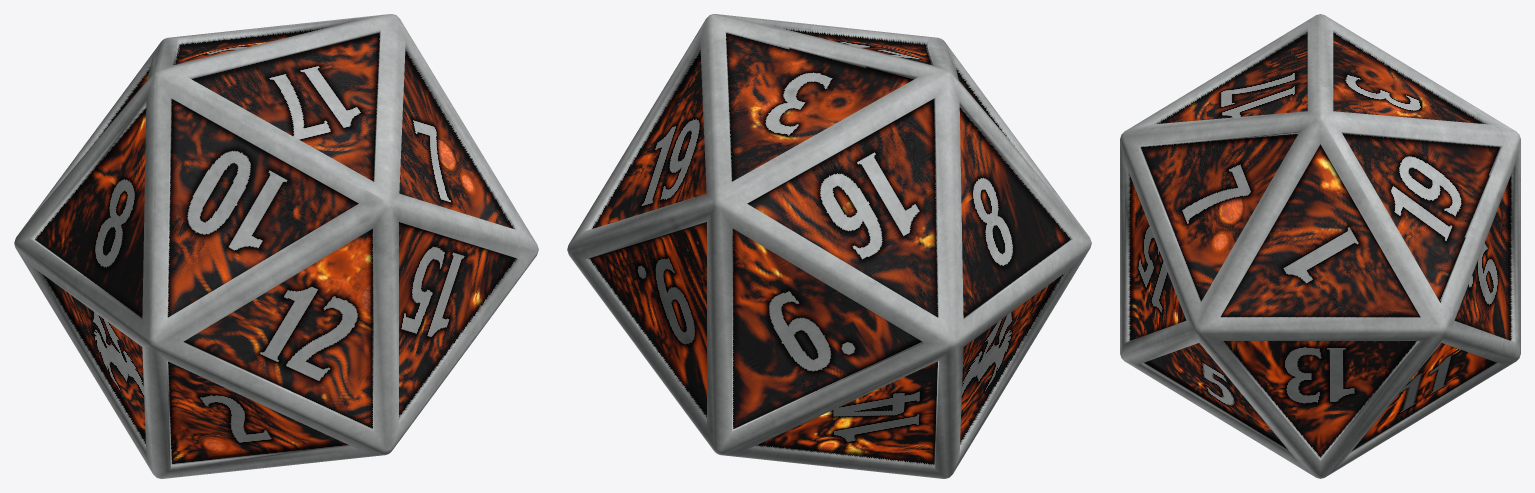
3 renders of one model, left to right at view 1: azimuth 30°, elevation 25°; view 2: azimuth 150°, elevation 25°; view 3: azimuth 270°, elevation 25°, orthographic. The views are drawn at different scales.
Visible parts, largest first — view 1: dice_20; view 2: dice_20; view 3: dice_20.
Boxes of the visible parts, <box> form: dice_20: <box>14,14,538,478</box>; dice_20: <box>567,14,1091,478</box>; dice_20: <box>1120,14,1520,478</box>.
Bounding box in the file's own units: 1.7 × 1.7 × 1.7.
1 material, 1 textured.
